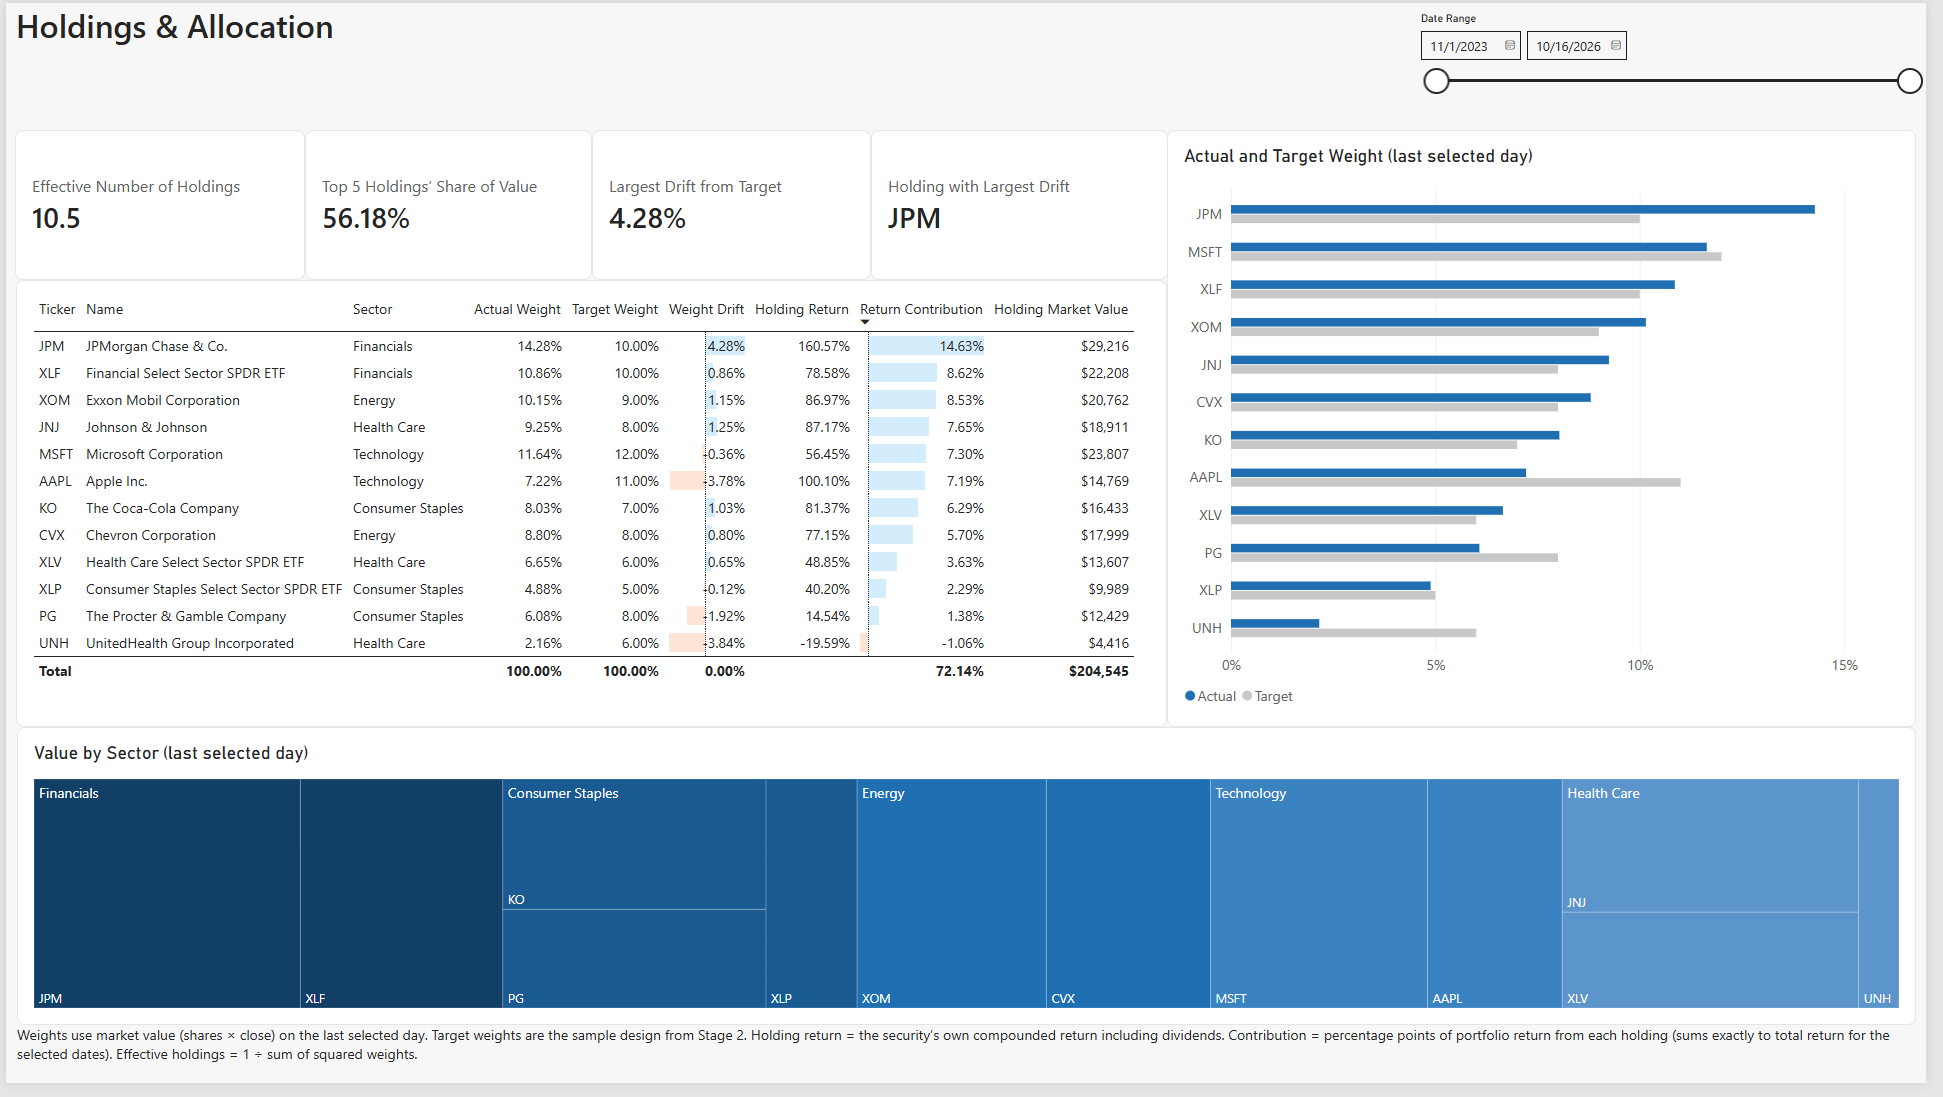

This screenshot's page, from the dashboard's own definition file:
{"tool":"powerbi","page":{"name":"Holdings & Allocation","canvas":[1920,1080],"ordinal":1},"visuals":[{"type":"textbox","box":[10.3,0,330.9,46.5],"z":0},{"type":"cardVisual","fields":{"Data":["_Measures.Effective Holdings"]},"box":[9.3,127.2,289.5,149.9],"z":1000},{"type":"cardVisual","fields":{"Data":["_Measures.Top 5 Share"]},"box":[298.8,127.2,287.4,149.9],"z":2000},{"type":"cardVisual","fields":{"Data":["_Measures.Max Drift"]},"box":[586.2,127.2,279.2,149.9],"z":3000},{"type":"cardVisual","fields":{"Data":["_Measures.Max Drift Ticker"]},"box":[865.4,127.2,296.7,149.9],"z":4000},{"type":"tableEx","fields":{"Values":["dim_security.ticker","dim_security.security_name","dim_security.sector","_Measures.Actual Weight","_Measures.Target Weight","_Measures.Weight Drift","_Measures.Holding Return","_Measures.Return Contribution","_Measures.Holding Market Value"]},"box":[10.3,277.1,1150.8,446.7],"z":5000},{"type":"treemap","title":"Value by Sector (last selected day)","fields":{"Details":["dim_security.ticker"],"Group":["dim_security.sector"],"Values":["_Measures.Holding Market Value"]},"box":[11,724,1899,298],"z":6000},{"type":"clusteredBarChart","title":"Actual and Target Weight (last selected day)","fields":{"Category":["dim_security.ticker"],"Y":["_Measures.Actual Weight","_Measures.Target Weight"]},"box":[1161,127,749,597],"z":7000},{"type":"slicer","fields":{"Values":["dim_date.date_key"]},"box":[1406.6,8.8,513.4,97.2],"z":9000},{"type":"textbox","box":[11,1022,1899,58],"z":10000}]}

Visuals, with their boxes in screenshot pixels (x1, y1, x2, y2), scaled from the page's 1920x1080 canvas onto the 1943x1097 screenshot:
textbox: select_region(10, 0, 345, 47)
cardVisual - _Measures.Effective Holdings: select_region(9, 129, 302, 281)
cardVisual - _Measures.Top 5 Share: select_region(302, 129, 593, 281)
cardVisual - _Measures.Max Drift: select_region(593, 129, 876, 281)
cardVisual - _Measures.Max Drift Ticker: select_region(876, 129, 1176, 281)
tableEx - dim_security.ticker x dim_security.security_name: select_region(10, 281, 1175, 735)
"Value by Sector (last selected day)" treemap: select_region(11, 735, 1933, 1038)
"Actual and Target Weight (last selected day)" clusteredBarChart: select_region(1175, 129, 1933, 735)
slicer - dim_date.date_key: select_region(1423, 9, 1942, 108)
textbox: select_region(11, 1038, 1933, 1096)
